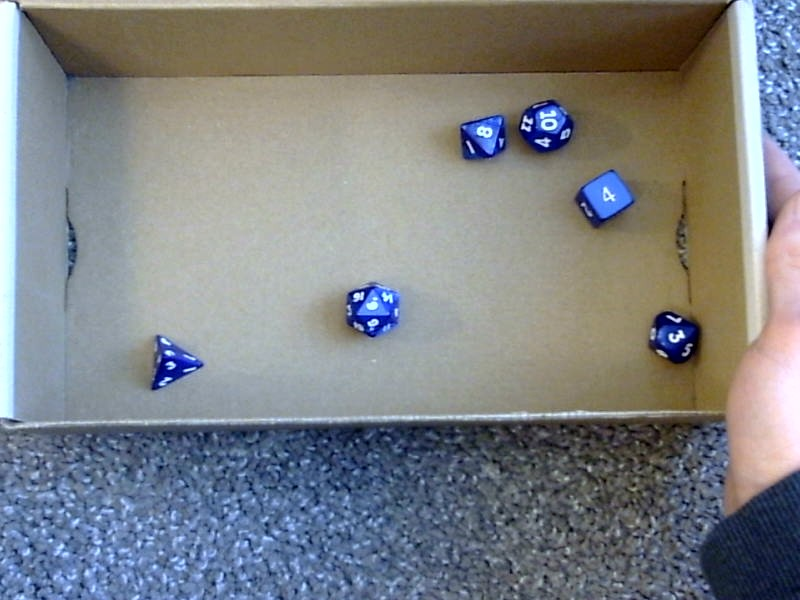d10 3: (640, 301, 705, 366)
d12 10: (516, 96, 576, 154)
d20 6: (337, 271, 403, 340)
d4 3: (138, 328, 206, 394)
d6 4: (569, 166, 636, 230)
d8 8: (452, 106, 513, 163)
